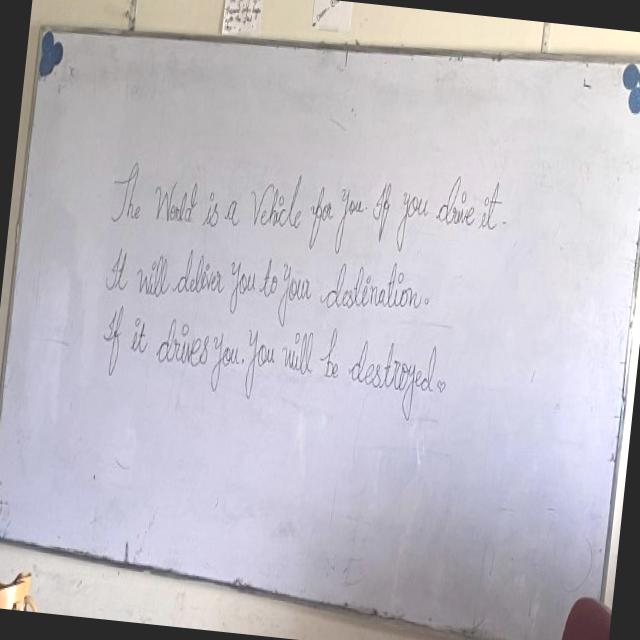White-board: (0, 32, 640, 640)
